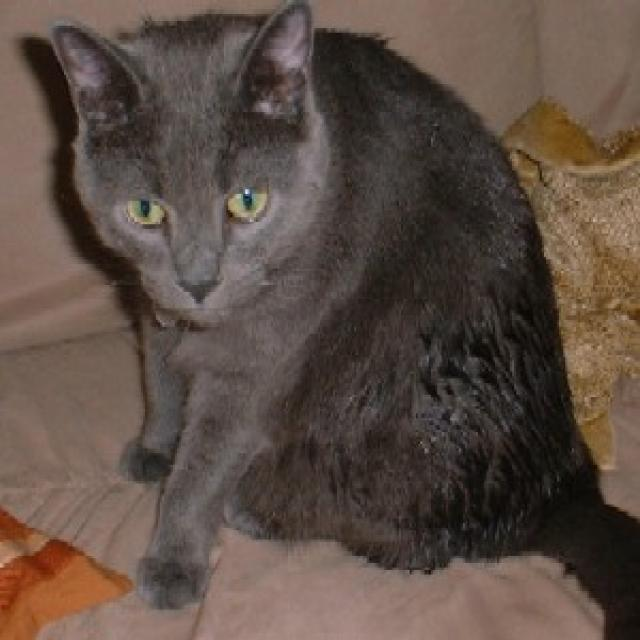Russian_Blue: (48, 0, 332, 328)
